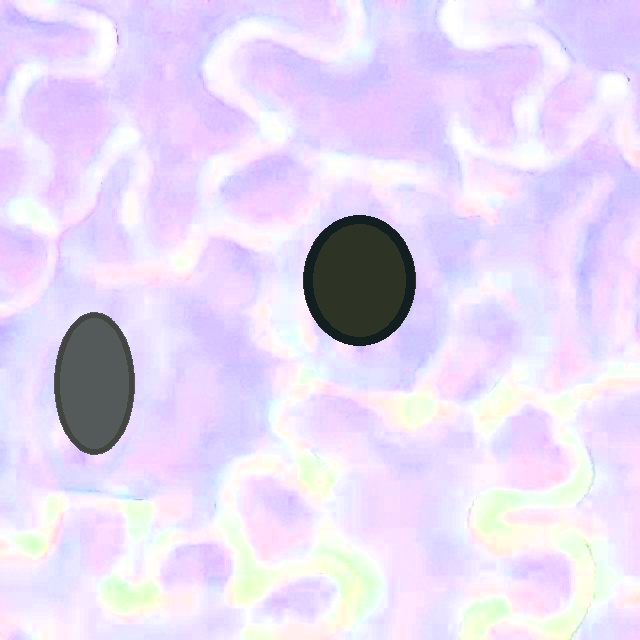close: (302, 215, 415, 344)
open: (54, 312, 133, 454)
